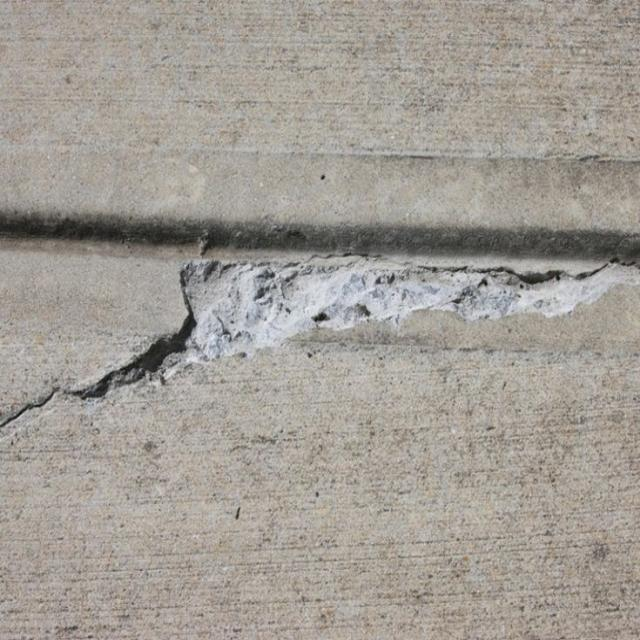Spalling: (0, 254, 636, 424)
